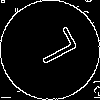L: (25, 25, 79, 72)
